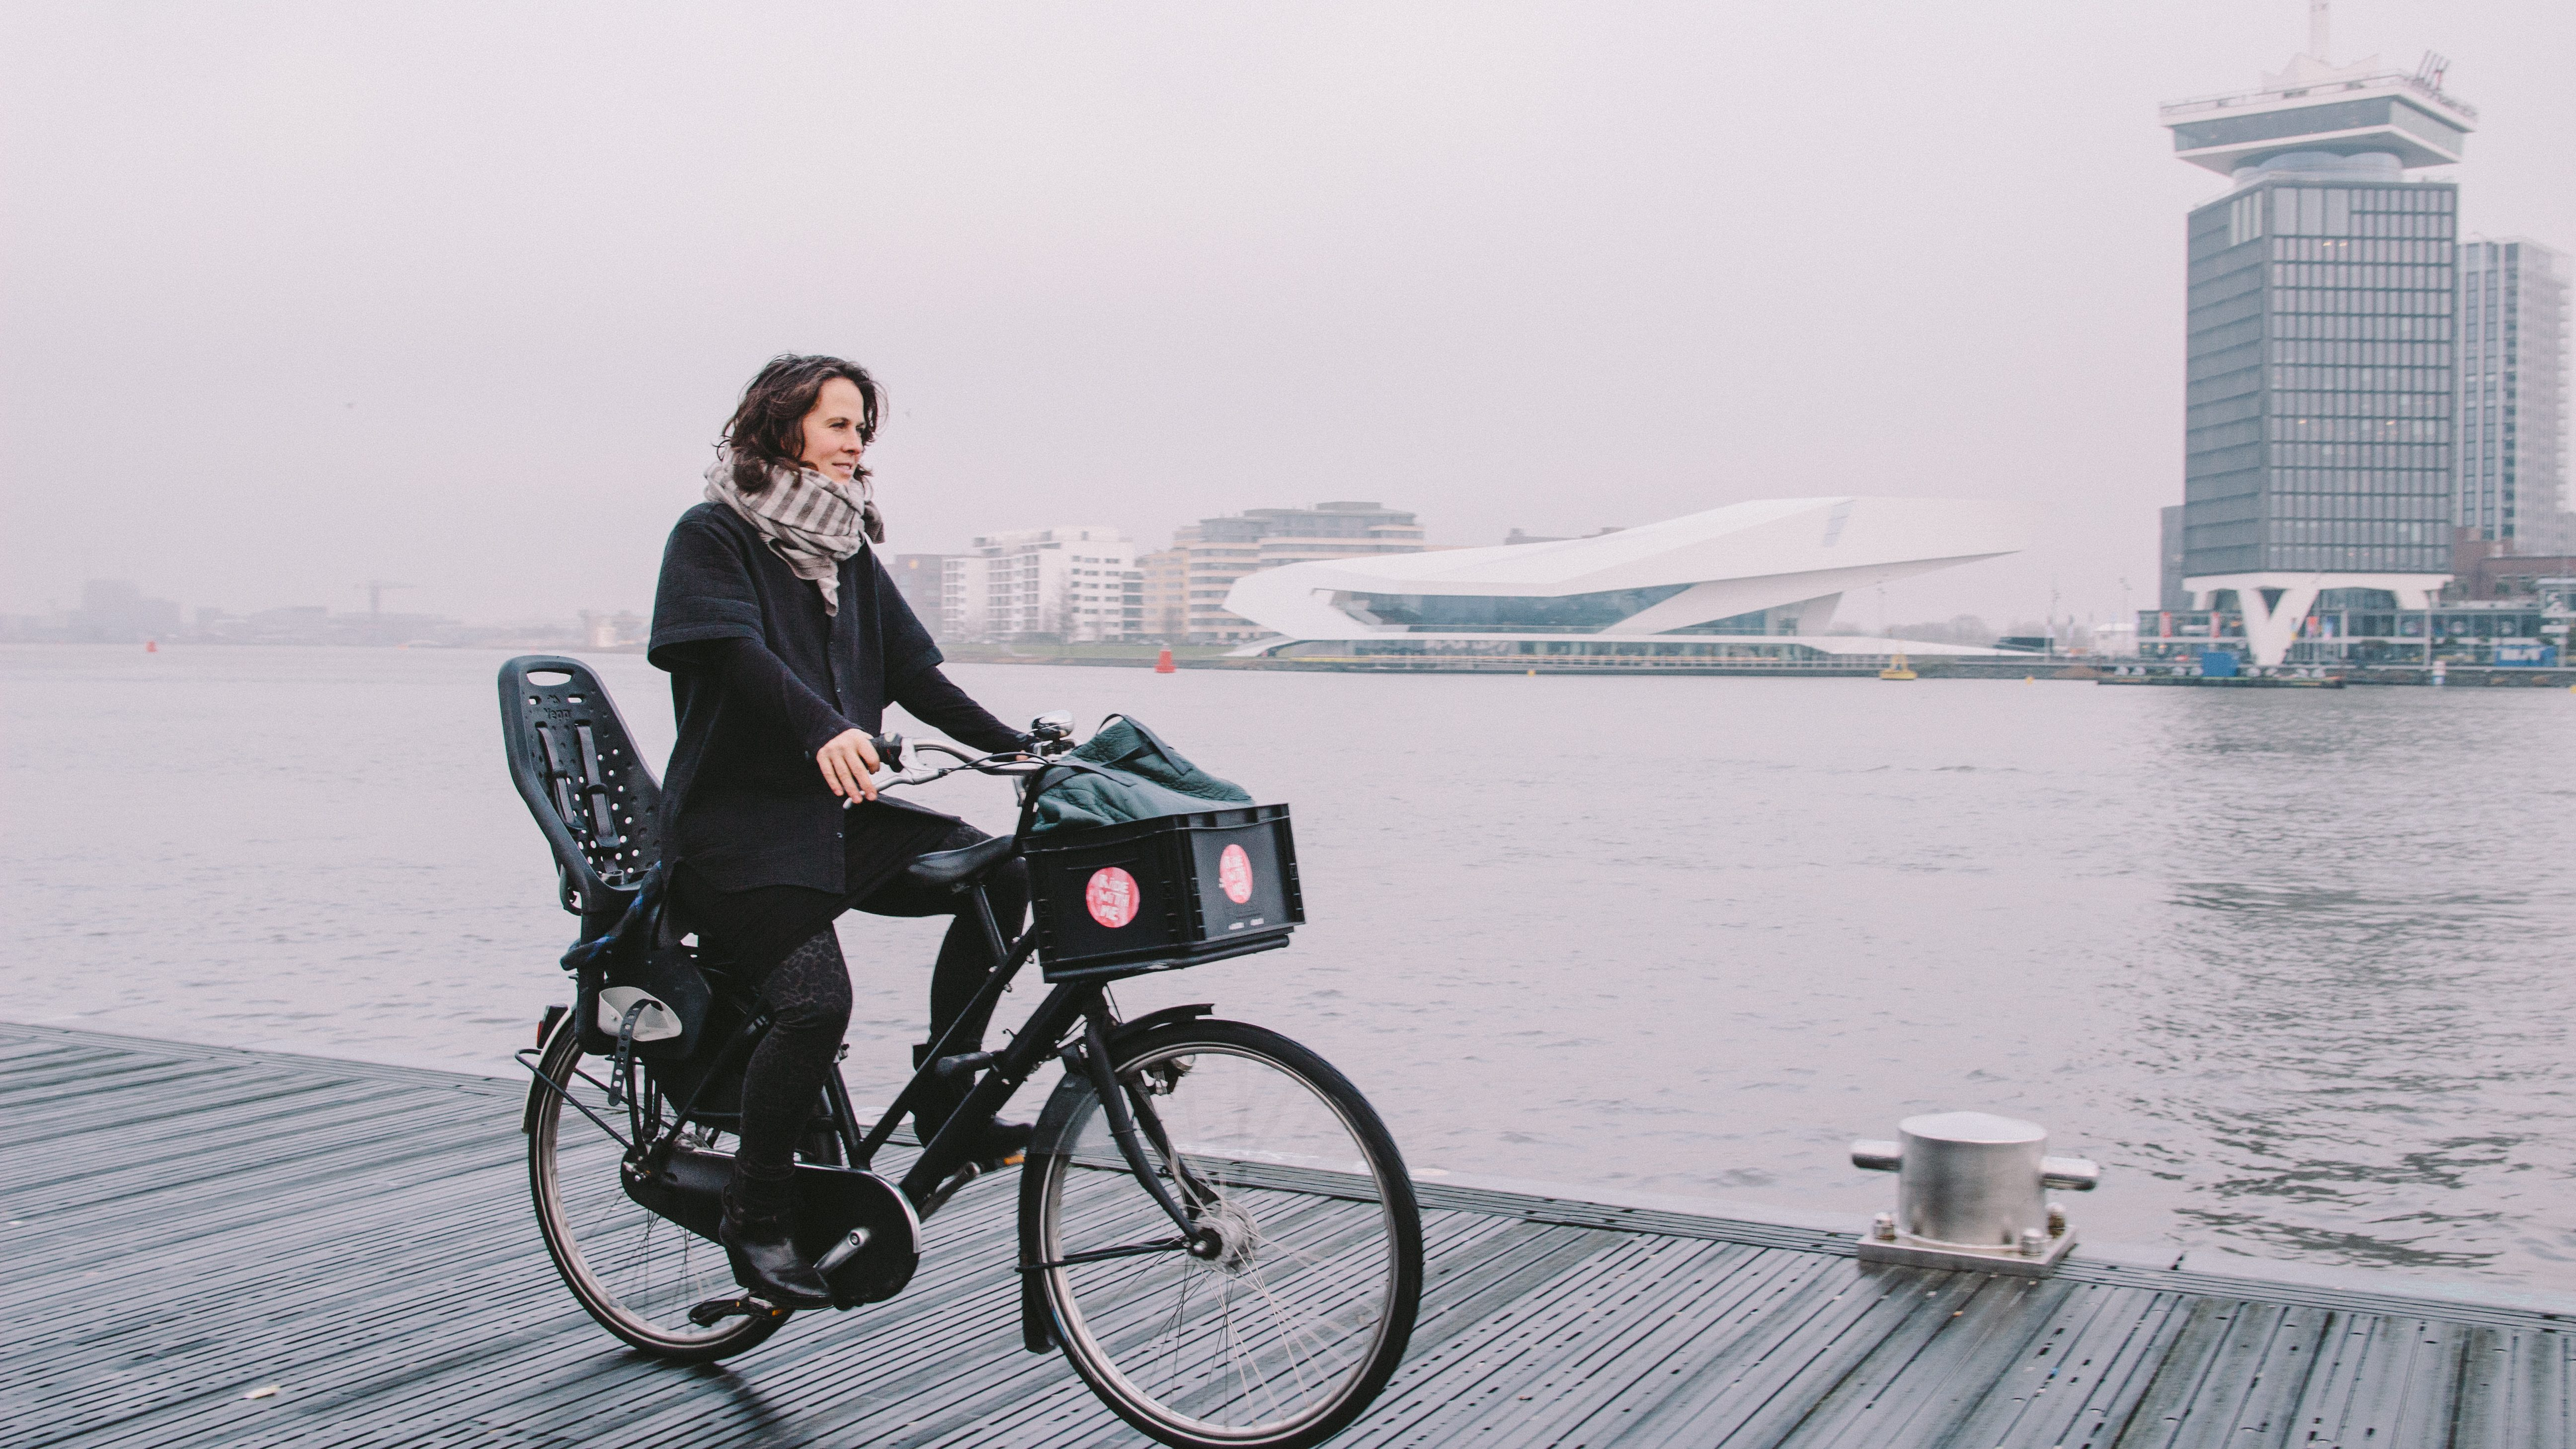commuter: (501, 354, 1433, 1449)
